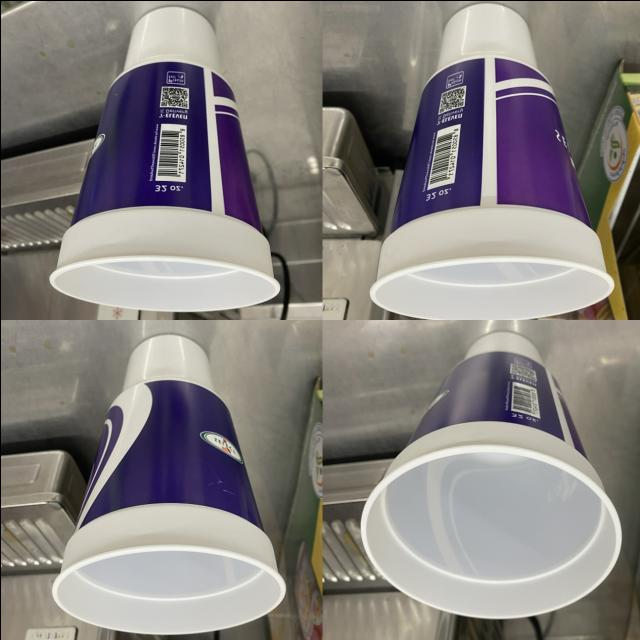plastik: (370, 3, 612, 319), (361, 332, 621, 617), (49, 6, 279, 310), (52, 334, 285, 634)
